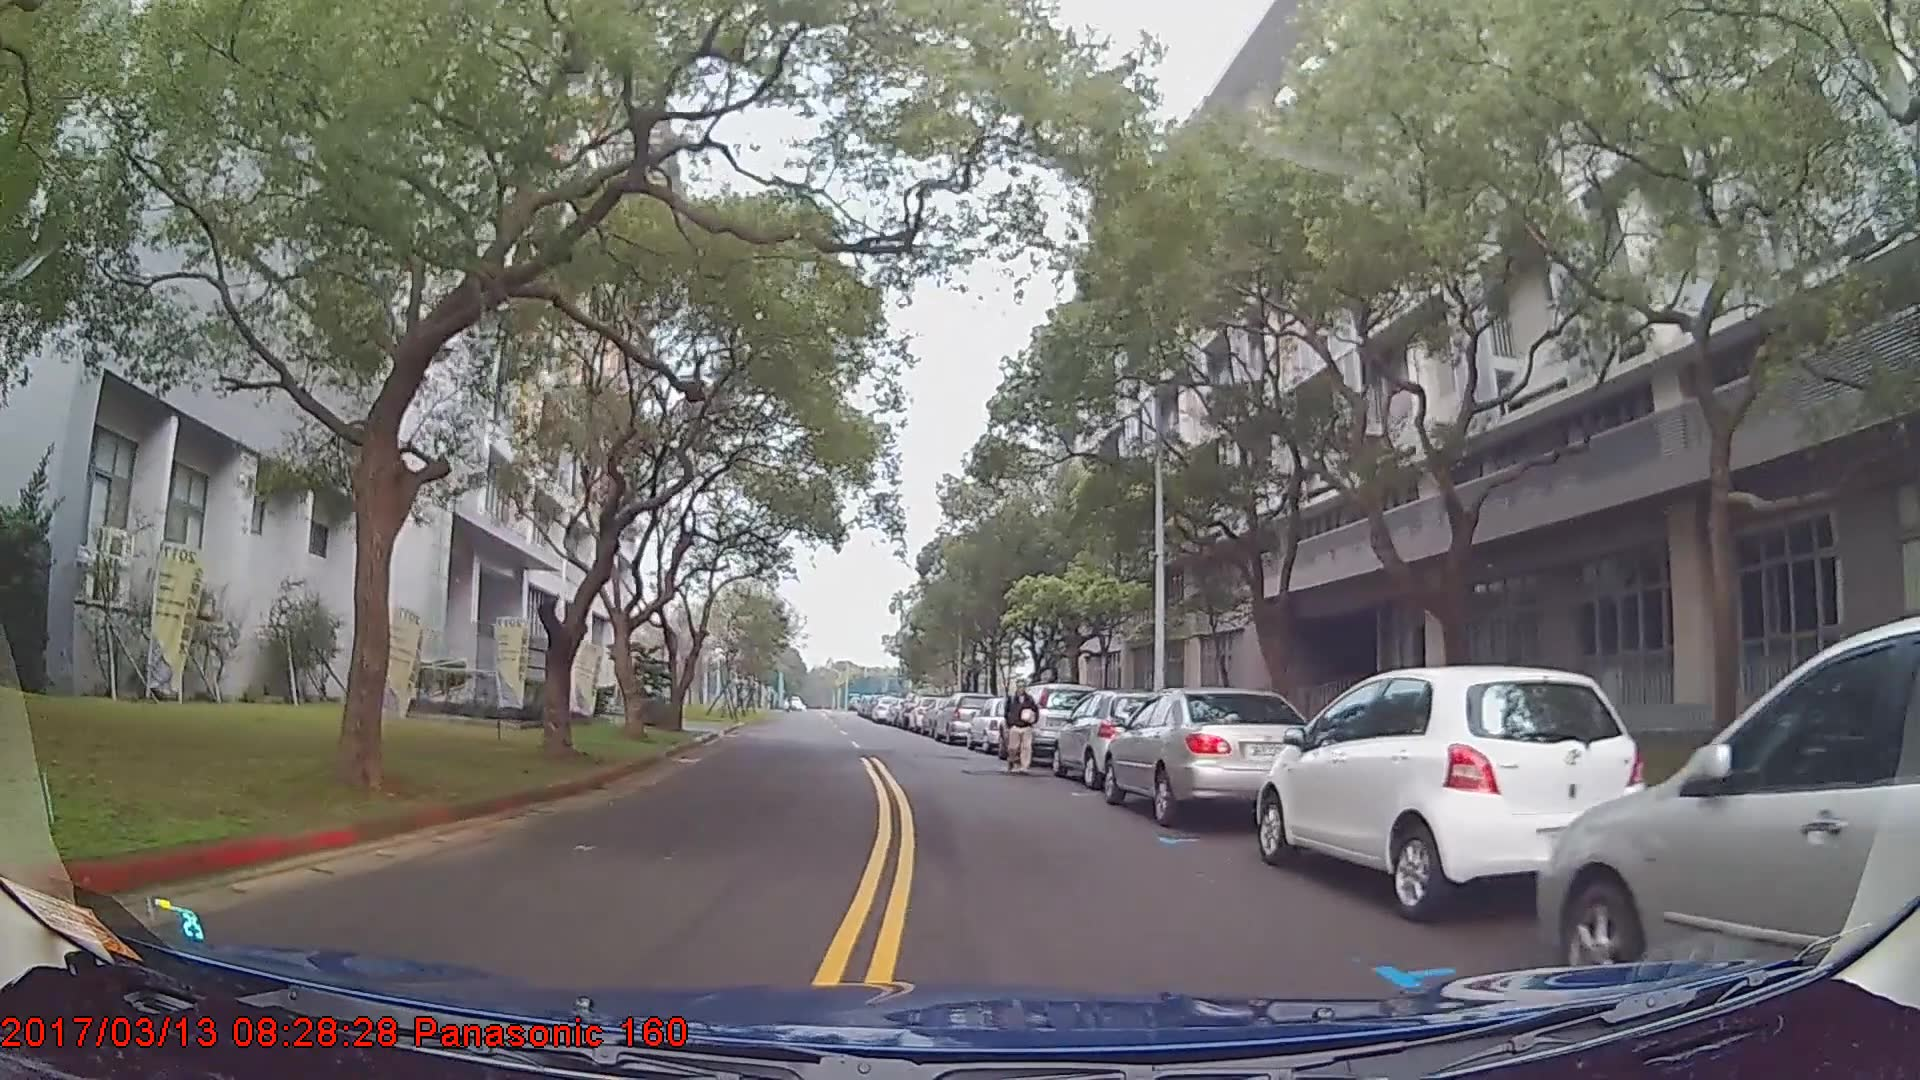pedestrian: (1005, 676, 1041, 776)
vehicle: (1535, 613, 1920, 1018), (1258, 661, 1653, 925), (1100, 685, 1318, 825), (1050, 686, 1181, 787), (999, 681, 1098, 766), (965, 693, 1032, 754), (933, 691, 996, 745)
